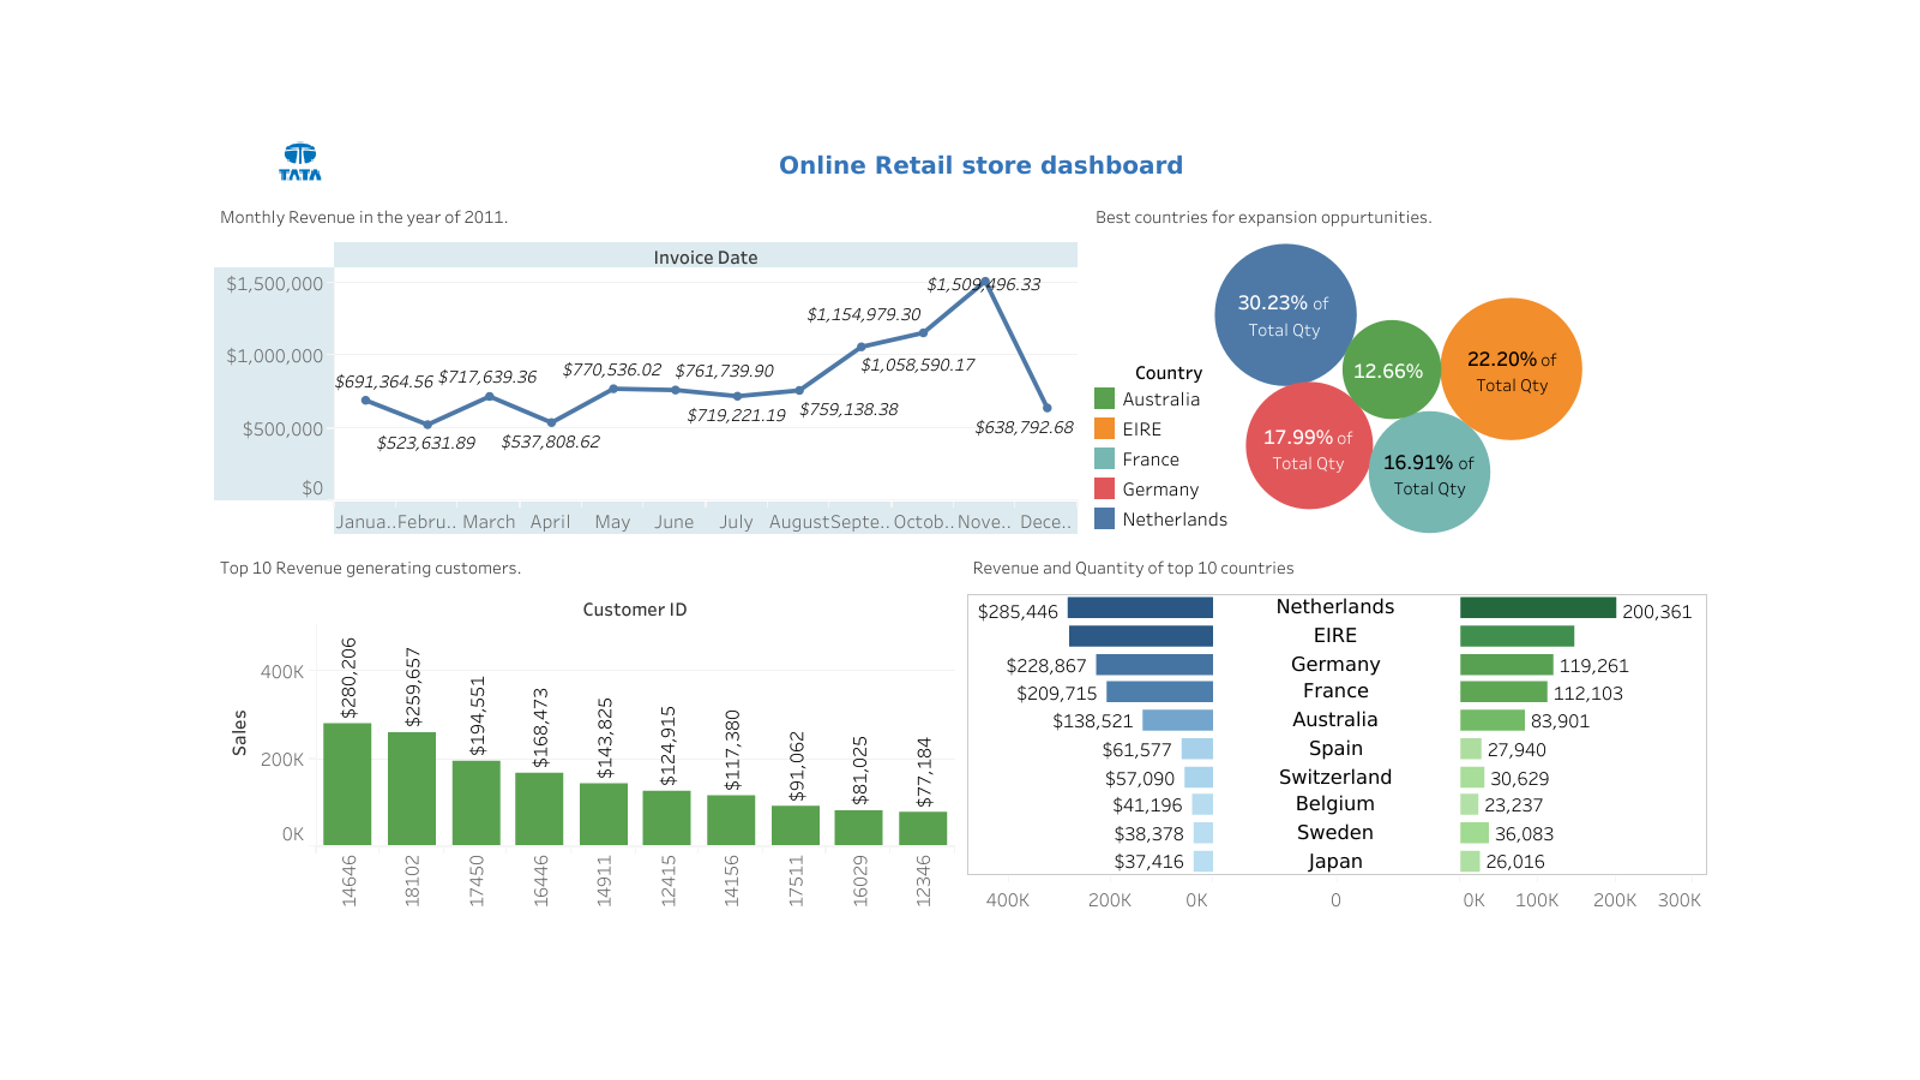

The page's visual inventory and layout, read from the dashboard file:
{"tool":"tableau","page":{"name":"CEO dashboard","canvas":[1000,1000],"units":"permille","ordinal":0},"visuals":[{"type":"text","box":[296.1,16.5,435.3,55.1]},{"type":"worksheet","title":"Revenue per month in 2011","mark":"Automatic","rows":["Calculation_454019180078256128"],"cols":["InvoiceDate"],"box":[7.8,73.3,572.6,425.8]},{"type":"worksheet","title":"Best expansion options","mark":"Circle","box":[580.4,73.3,411.8,425.8]},{"type":"legend","title":"Best expansion options","param":"[federated.0z75qw6158p89y0zsszlk068c5os].[none:Country:nk]","box":[584.3,275.2,102,212.8]},{"type":"worksheet","title":"Top 10 customers by revenue","mark":"Automatic","rows":["Calculation_454019180078256128"],"cols":["CustomerID"],"box":[7.8,499.1,492.2,486.3]},{"type":"worksheet","title":"Revenue and Quantity","mark":"Automatic","rows":["Country"],"cols":["Calculation_454019180078256128","Calculation_454019180088250371","Quantity"],"box":[500,499.1,492.2,486.3]}]}

Visuals, with their boxes on the dashboard's canvas, which has no fixed pixel size, in thousandths of its width and height (x1, y1, x2, y2). These are canvas units, not pixel positions in the 1920x1080 screenshot, which may show the page scaled, cropped or inside an application window:
text: detection(296, 16, 731, 72)
"Revenue per month in 2011" worksheet: detection(8, 73, 580, 499)
"Best expansion options" worksheet (Circle marks): detection(580, 73, 992, 499)
"Best expansion options" legend: detection(584, 275, 686, 488)
"Top 10 customers by revenue" worksheet: detection(8, 499, 500, 985)
"Revenue and Quantity" worksheet: detection(500, 499, 992, 985)
